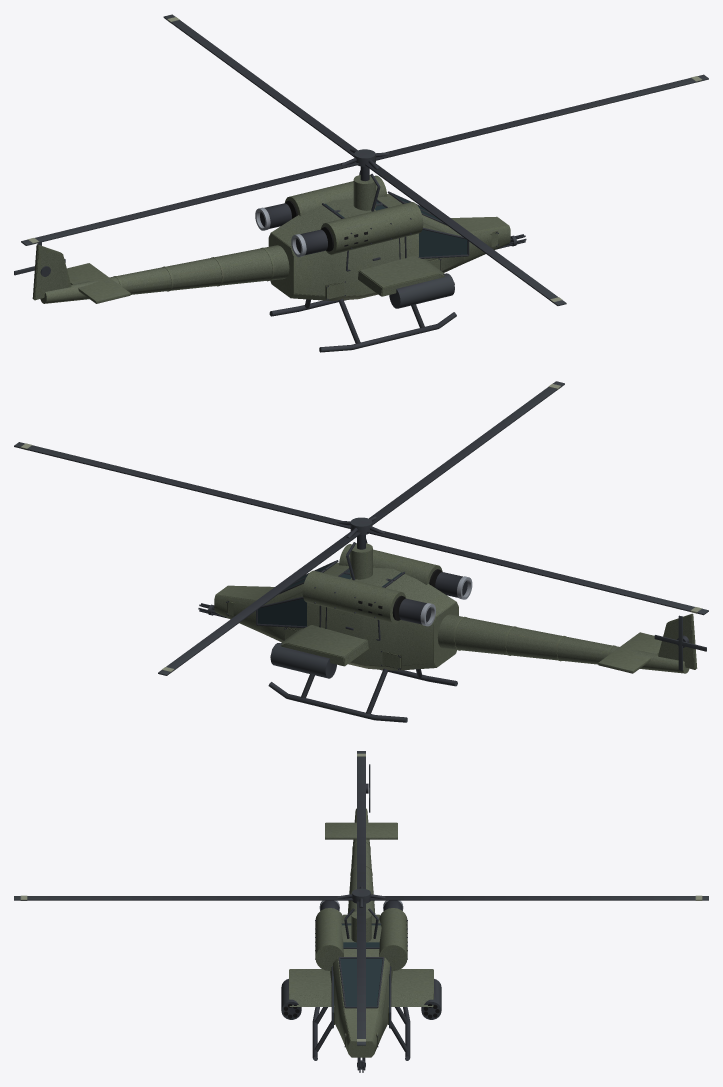
File: heli.glb
3 views of the same model, one above another, from view 1: azimuth 30°, elevation 25°; view 2: azimuth 150°, elevation 25°; view 3: azimuth 270°, elevation 25° (orthographic). The views are drawn at different scales.
Parts seen in each view (by area): view 1: body, rotor; view 2: body, rotor; view 3: body, rotor.
Boxes of the visible parts, x1,y1,x2,y2 form: body: (14,166,510,352); rotor: (21,14,708,305); body: (214,534,706,722); rotor: (14,381,708,675); body: (281,764,441,1060); rotor: (14,751,708,1045).
Bounding box in the file's own units: 13.89 × 3.23 × 13.8.
3 materials, 3 textured.
